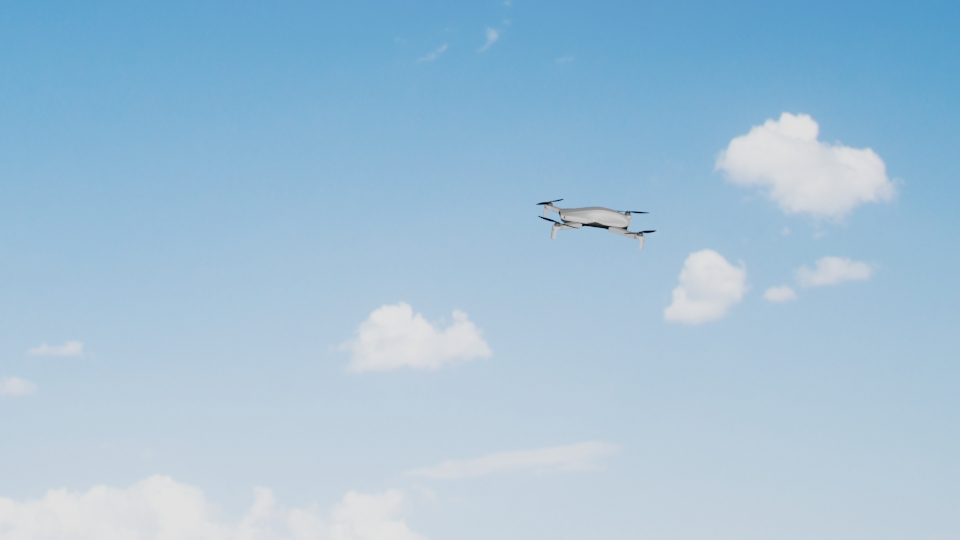drone: (533, 197, 658, 250)
